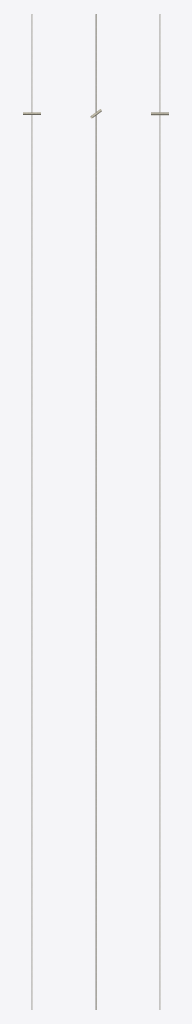
File: SuspBridgeCable1.FBX
3 renders of one model, left to right at view 1: azimuth 90°, elevation 25°; view 2: azimuth 150°, elevation 25°; view 3: azimuth 270°, elevation 25°, orthographic.
Visible parts, largest first — view 1: SuspBridgeCable1; view 2: SuspBridgeCable1; view 3: SuspBridgeCable1.
Part boxes in pixels (left/top/right/bottom): SuspBridgeCable1: left=23, top=14, right=40, bottom=1009; SuspBridgeCable1: left=90, top=14, right=101, bottom=1009; SuspBridgeCable1: left=151, top=14, right=168, bottom=1009.
Bounding box in the file's own units: 0.7236 × 300 × 5.
